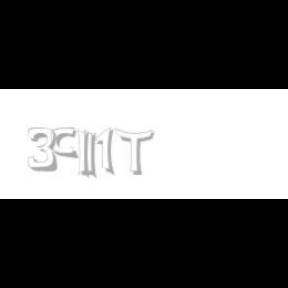1: (93, 128, 115, 176)
3: (28, 128, 58, 172)
I: (84, 128, 97, 180)
T: (114, 128, 154, 176)
c: (50, 128, 80, 160)
l: (77, 128, 93, 180)
